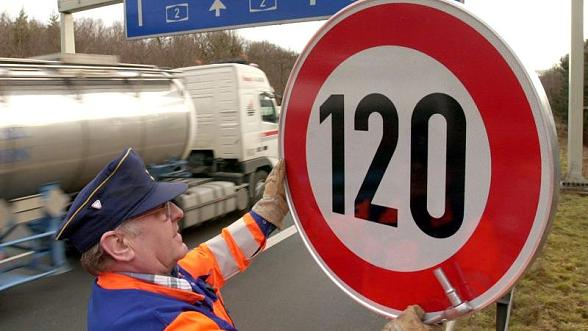Speed_limit_120km: (273, 4, 561, 322)
